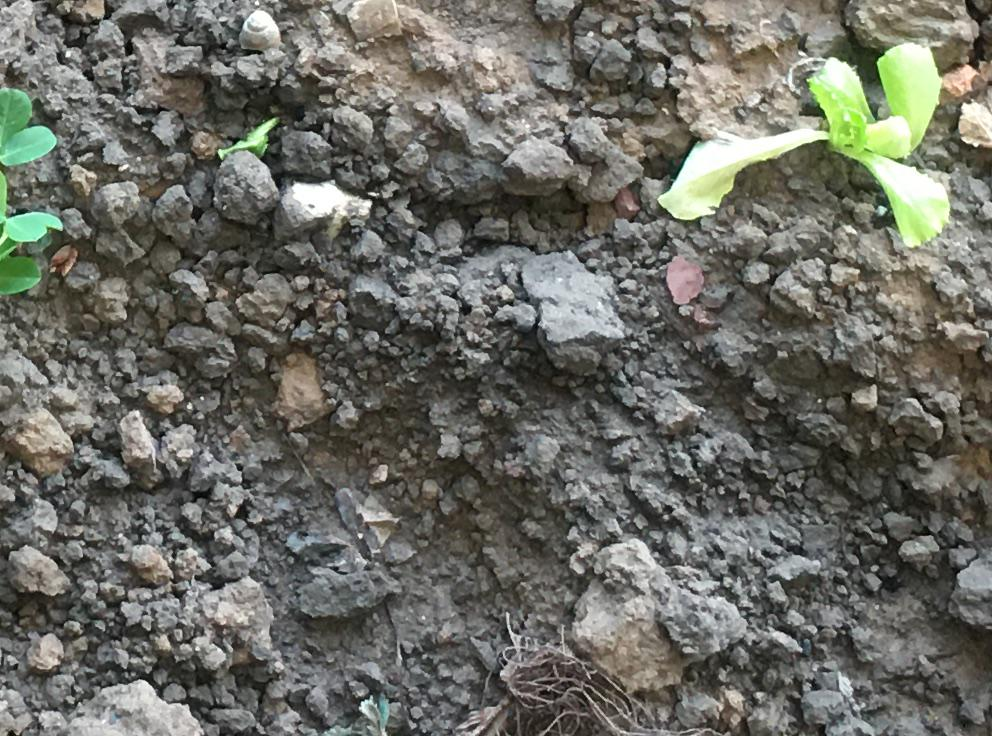block: (563, 544, 707, 692), (515, 248, 632, 369), (211, 146, 285, 224)
